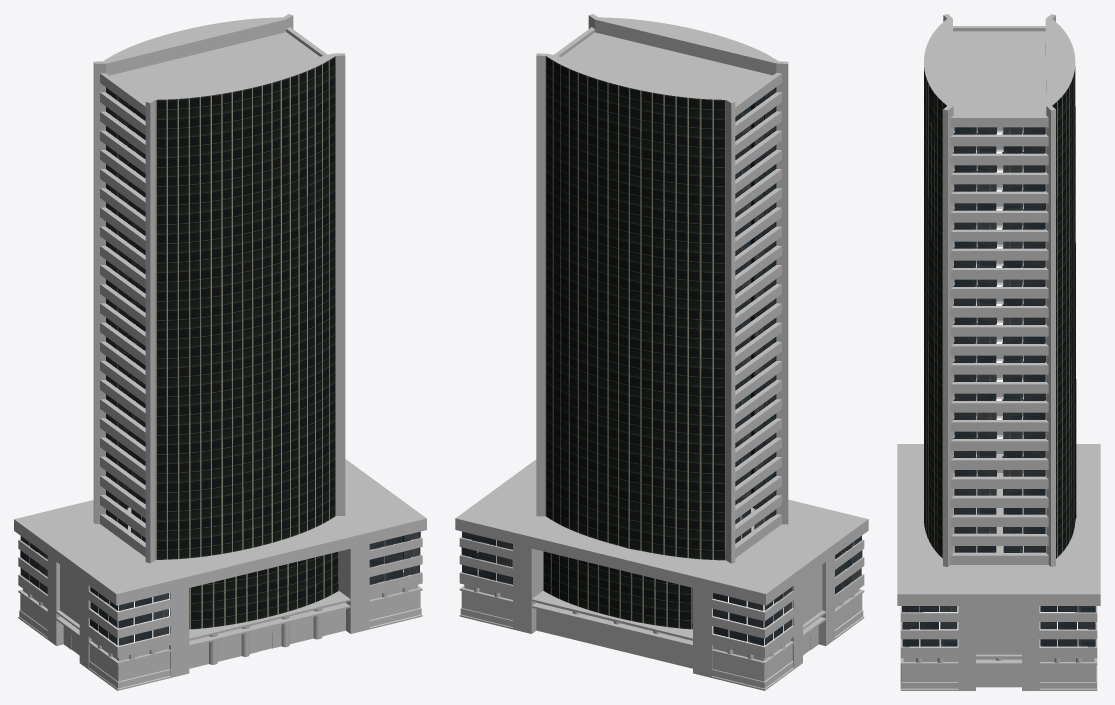
3 renders of one model, left to right at view 1: azimuth 30°, elevation 25°; view 2: azimuth 150°, elevation 25°; view 3: azimuth 270°, elevation 25°, orthographic.
Parts seen in each view (by area): view 1: BC-P04; view 2: BC-P04; view 3: BC-P04.
Part boxes in pixels (x1,y1,x2,y2): BC-P04: [14, 14, 426, 690]; BC-P04: [455, 14, 868, 690]; BC-P04: [897, 14, 1100, 690].
Size of what is drawn, in the model's own units: 56 by 96.32 by 32.
